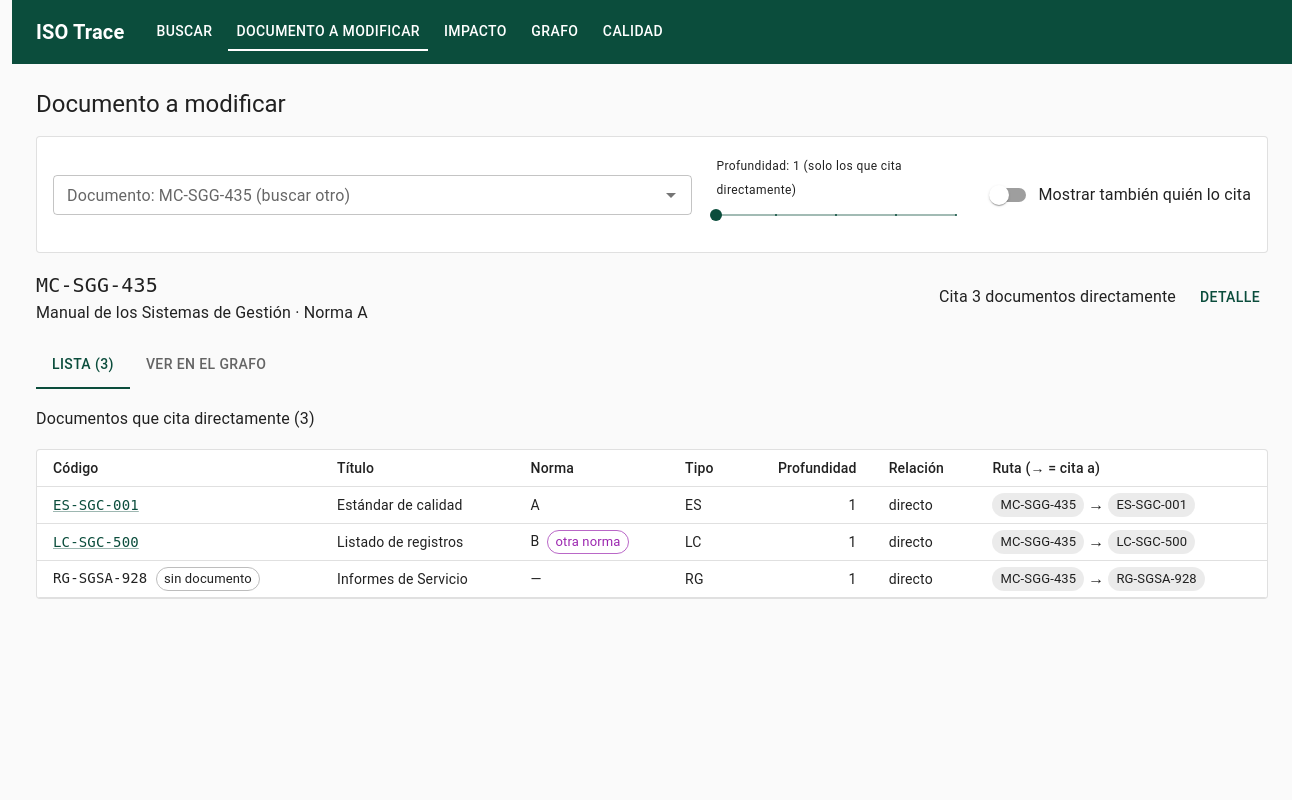
Test case: ModifyPage › el interruptor agrega quién lo cita a la lista
Check: the table named "Citados directamente" is shown, box [37,450,1267,598]
Click the switch labelled "Mostrar también quién lo cita" at (1120, 194), box [989,184,1251,204]
(page scrolled)
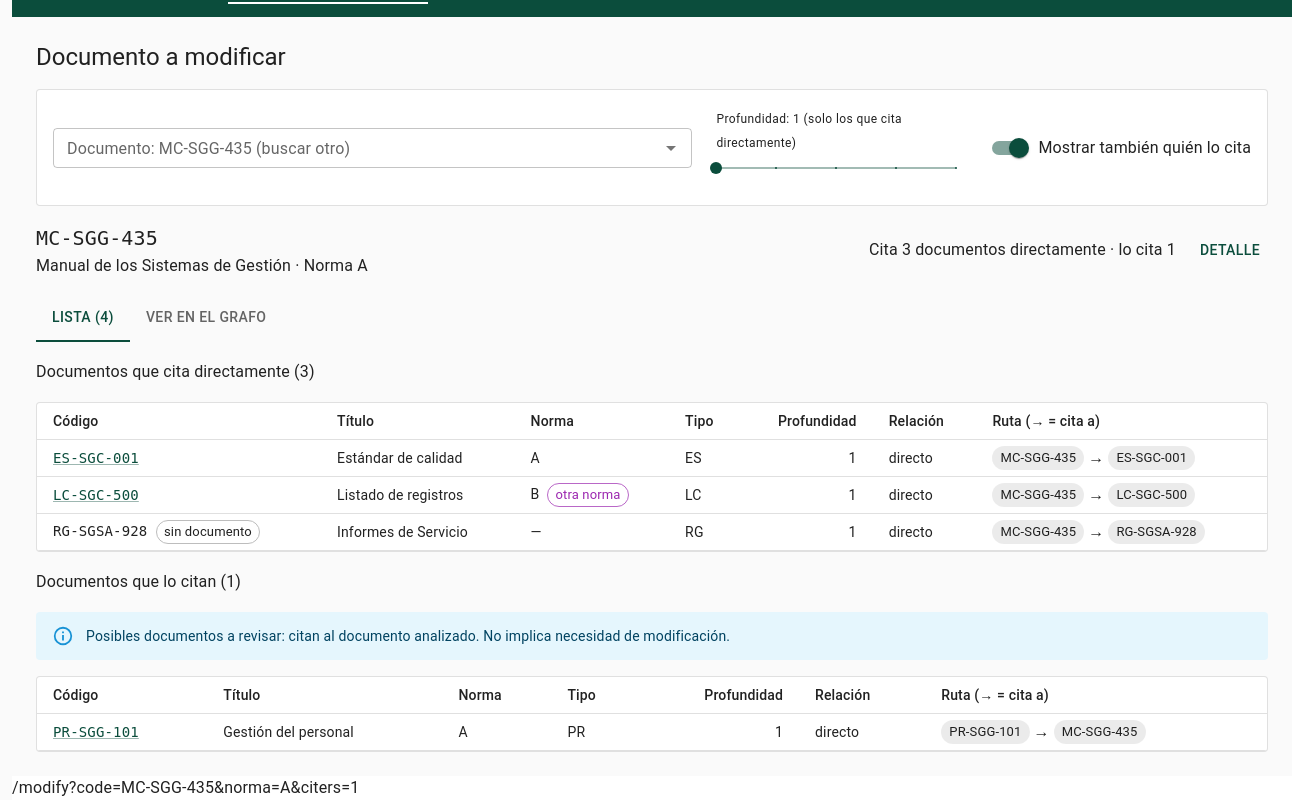
Check: the text "Posibles documentos a revisar" is shown, box [86,628,730,644]
Check: the text "Cita 3 documentos directamente · lo cita 1" is shown, box [869,238,1176,262]
Check: the text with test id "location" shows "citers=1", box [12,778,359,797]
